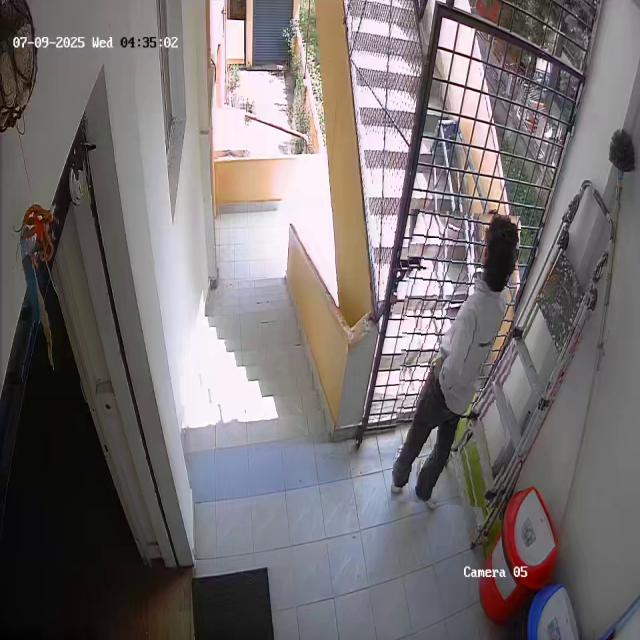person: (395, 210, 516, 507)
